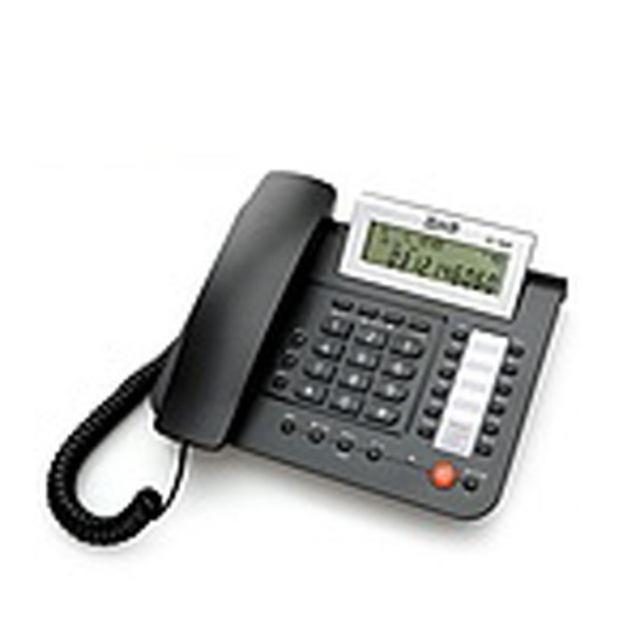Telephone-Set: (144, 169, 570, 527)
